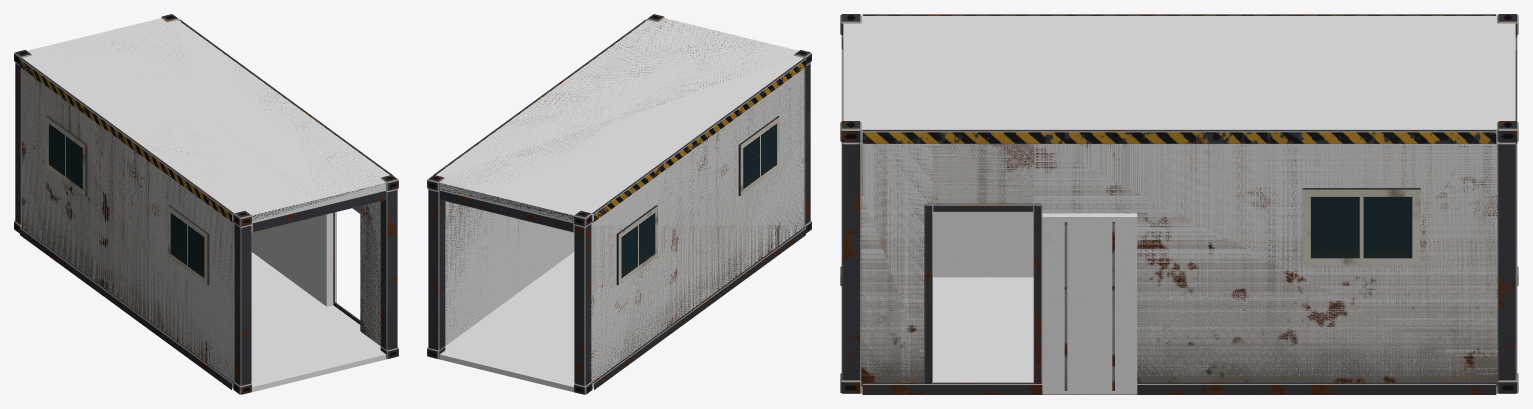
The model's file is Kit_Lot_Container20_01.glb.
3 views of the same model, side by side, from view 1: azimuth 30°, elevation 25°; view 2: azimuth 150°, elevation 25°; view 3: azimuth 270°, elevation 25° (orthographic). The views are drawn at different scales.
Visible parts, largest first — view 1: Kit_Lot_Container20_01_LOD0, COL_Kit_Lot_Container20_01_1, COL_Kit_Lot_Container20_01_2, COL_Kit_Lot_Container20_01_0, COL_Kit_Lot_Container20_01_3, COL_Kit_Lot_Container20_01_4; view 2: Kit_Lot_Container20_01_LOD0, COL_Kit_Lot_Container20_01_1, COL_Kit_Lot_Container20_01_2, COL_Kit_Lot_Container20_01_3, COL_Kit_Lot_Container20_01_0; view 3: Kit_Lot_Container20_01_LOD0, COL_Kit_Lot_Container20_01_1, COL_Kit_Lot_Container20_01_3, COL_Kit_Lot_Container20_01_6, COL_Kit_Lot_Container20_01_4, COL_Kit_Lot_Container20_01_0, COL_Kit_Lot_Container20_01_2, COL_Kit_Lot_Container20_01_5.
Boxes of the visible parts, <box> form: Kit_Lot_Container20_01_LOD0: <box>14,14,398,394</box>; COL_Kit_Lot_Container20_01_1: <box>22,18,389,222</box>; COL_Kit_Lot_Container20_01_2: <box>22,69,247,387</box>; COL_Kit_Lot_Container20_01_0: <box>232,252,387,394</box>; COL_Kit_Lot_Container20_01_3: <box>251,213,333,306</box>; COL_Kit_Lot_Container20_01_4: <box>360,189,396,345</box>; Kit_Lot_Container20_01_LOD0: <box>427,14,811,394</box>; COL_Kit_Lot_Container20_01_1: <box>436,18,803,222</box>; COL_Kit_Lot_Container20_01_2: <box>578,63,809,388</box>; COL_Kit_Lot_Container20_01_3: <box>429,189,574,345</box>; COL_Kit_Lot_Container20_01_0: <box>438,252,593,393</box>; Kit_Lot_Container20_01_LOD0: <box>840,14,1518,394</box>; COL_Kit_Lot_Container20_01_1: <box>843,16,1515,139</box>; COL_Kit_Lot_Container20_01_3: <box>1033,140,1515,382</box>; COL_Kit_Lot_Container20_01_6: <box>1042,213,1137,394</box>; COL_Kit_Lot_Container20_01_4: <box>843,140,932,382</box>; COL_Kit_Lot_Container20_01_0: <box>843,277,1515,393</box>; COL_Kit_Lot_Container20_01_2: <box>933,211,1033,277</box>; COL_Kit_Lot_Container20_01_5: <box>933,144,1033,210</box>.
Size of what is drawn, in the model's own units: 10.26 by 10.46 by 24.2.
1 material, 1 textured.
